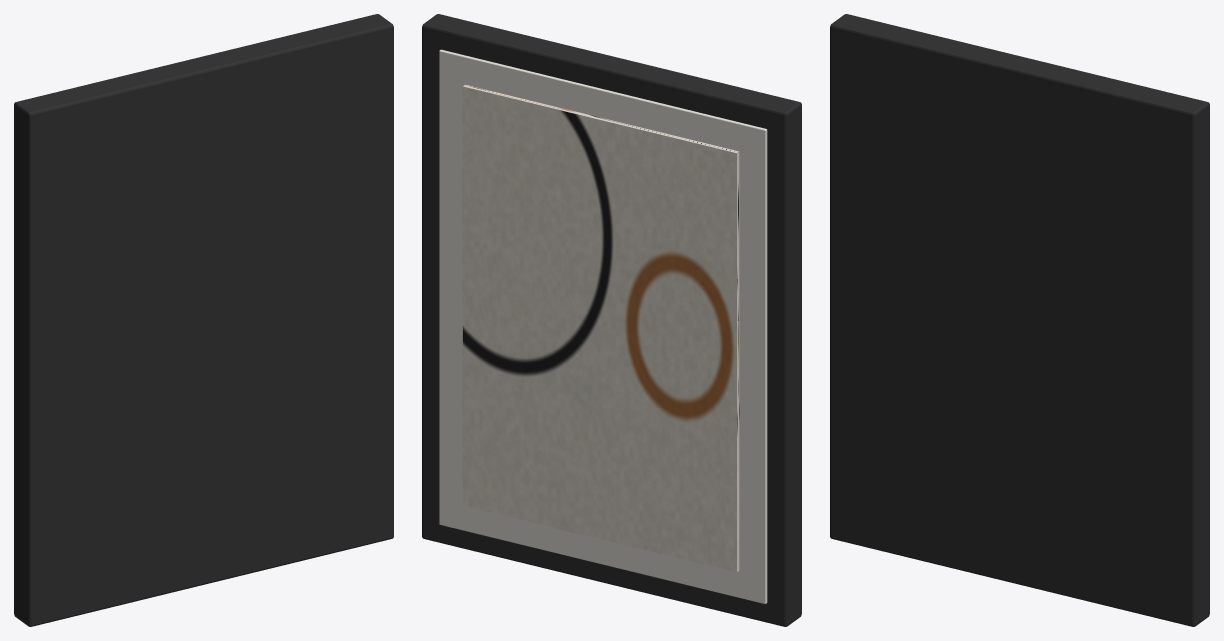
The model's file is corridor_art_b2.glb.
3 renders of one model, left to right at view 1: azimuth 30°, elevation 25°; view 2: azimuth 150°, elevation 25°; view 3: azimuth 330°, elevation 25°, orthographic.
Parts seen in each view (by area): view 1: corridor_art_b2; view 2: corridor_art_b2; view 3: corridor_art_b2.
Boxes of the visible parts, x1,y1,x2,y2 form: corridor_art_b2: (14,14,393,626); corridor_art_b2: (422,14,801,626); corridor_art_b2: (830,14,1209,626).
Size of the model in its own units: 0.52 by 0.7 by 0.05.
Materials: 3 (1 with a texture image).
